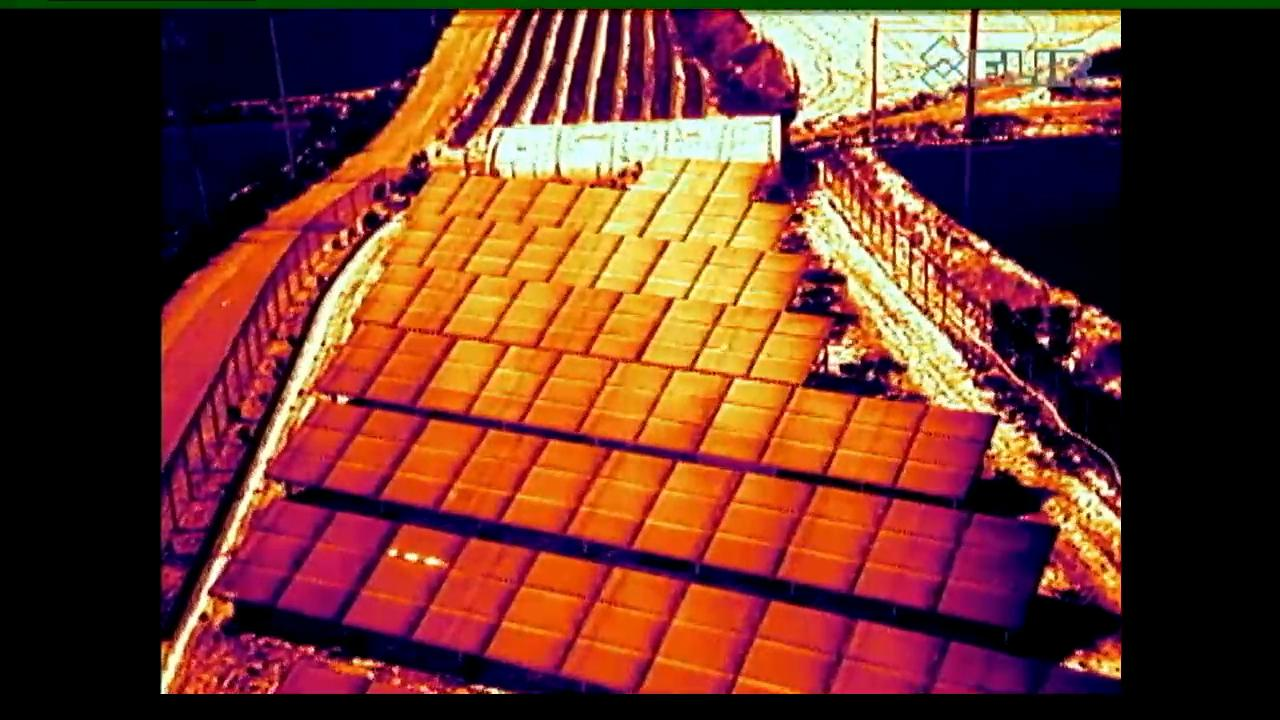hotspot: (337, 520, 466, 638), (689, 304, 783, 380)
